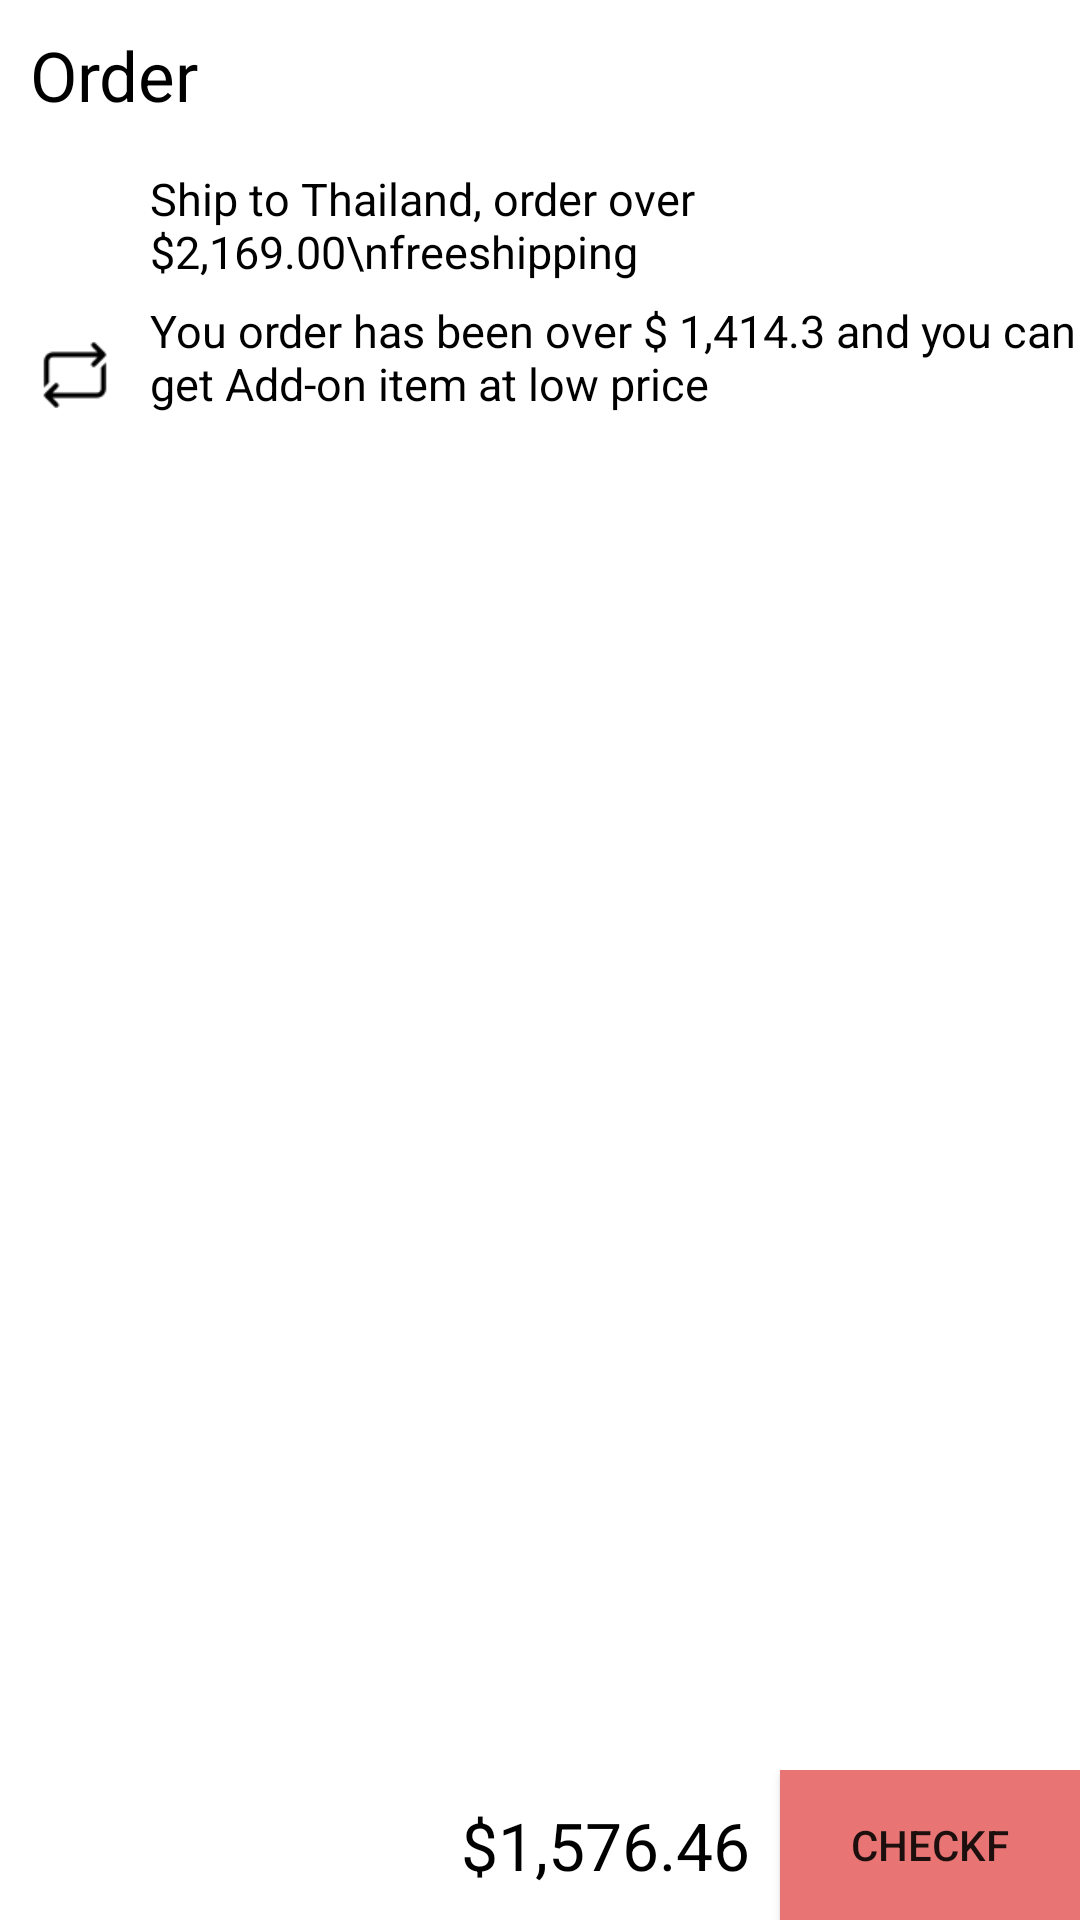

Named icons in this screenshot (1080 x 1920) and their centers, [x,y]:
repeat: [75,375]
